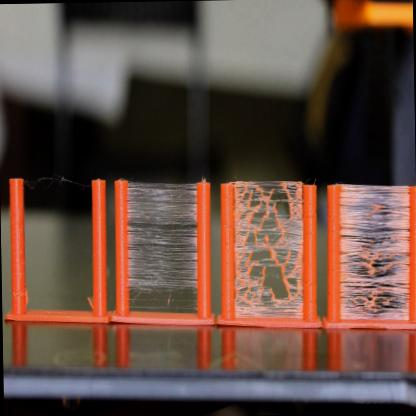fail: (123, 184, 200, 307), (339, 187, 409, 314), (234, 178, 300, 312), (26, 171, 93, 205)
